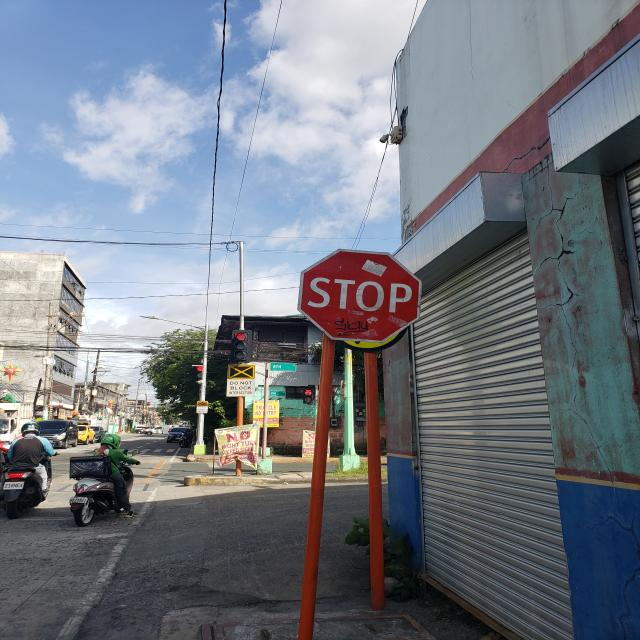stop-sign: (298, 248, 422, 343)
